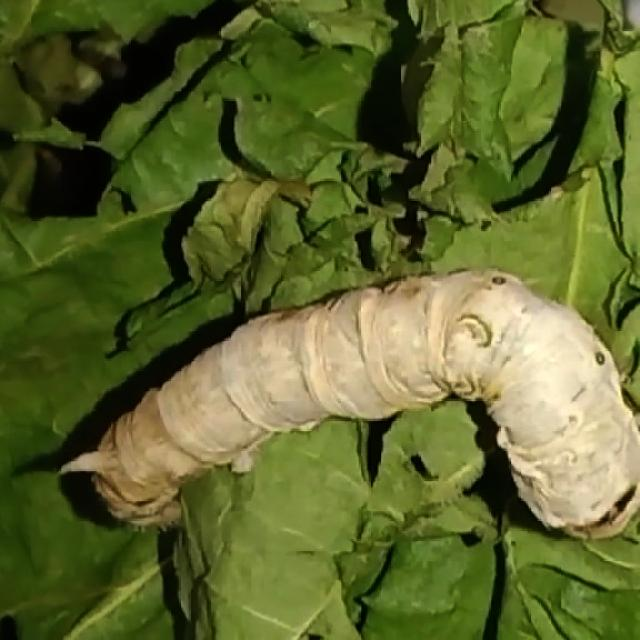Grasserie: (53, 268, 640, 573)
